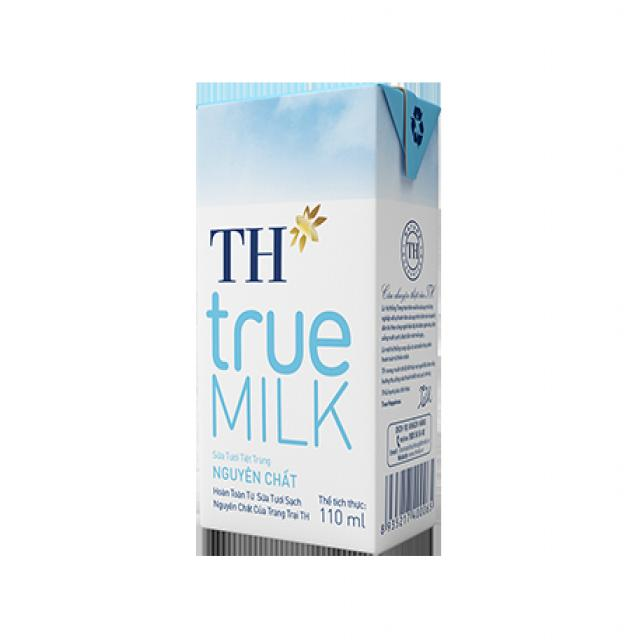non_white_jug: (179, 74, 461, 560)
